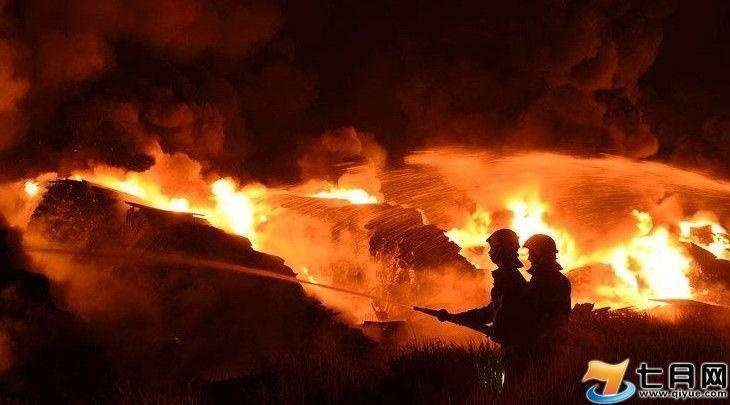fire: (607, 209, 721, 304), (506, 195, 564, 262), (313, 183, 379, 206)
